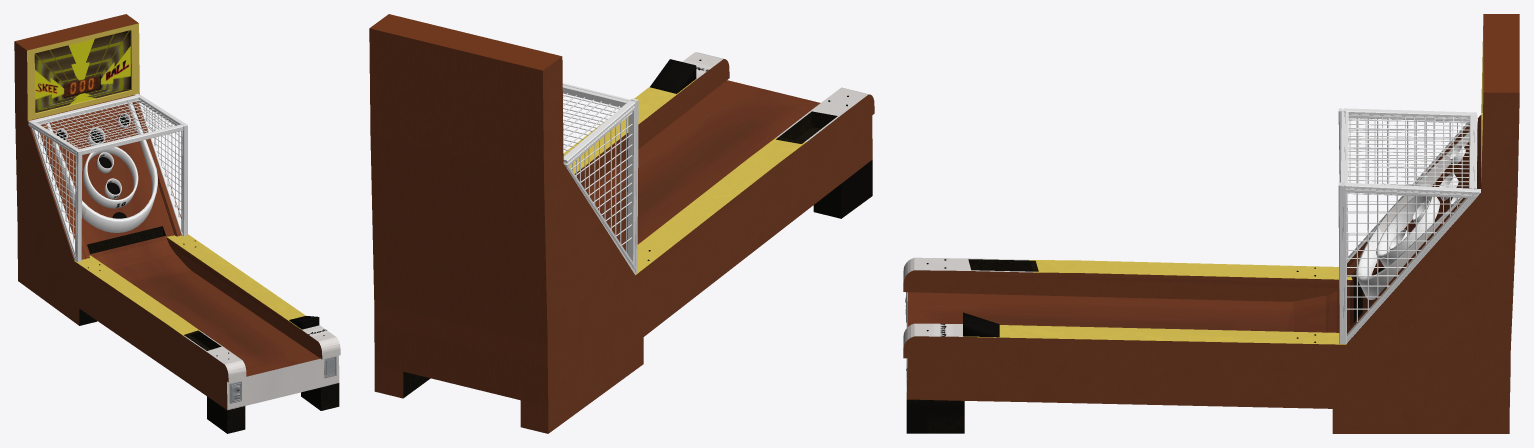
Rendered from skeeball.dae.
3 renders of one model, left to right at view 1: azimuth 30°, elevation 25°; view 2: azimuth 150°, elevation 25°; view 3: azimuth 270°, elevation 25°, orthographic. The views are drawn at different scales.
Parts seen in each view (by area): view 1: skeeball; view 2: skeeball; view 3: skeeball.
Part boxes in pixels (<box>): skeeball: <box>14,14,340,433</box>; skeeball: <box>369,14,874,433</box>; skeeball: <box>903,14,1519,433</box>.
Size of the model in its own units: 1.18 by 3.88 by 2.37.
Materials: 1 (1 with a texture image).
